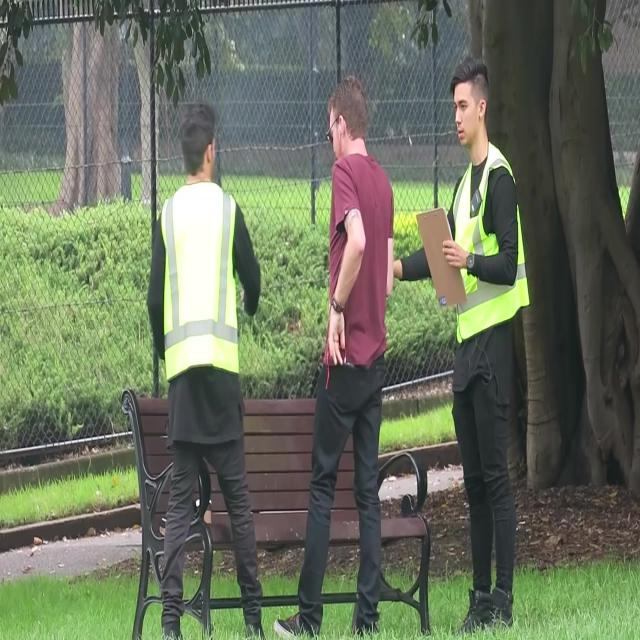Reflective-Jacket: (154, 178, 250, 402), (437, 144, 534, 343)
